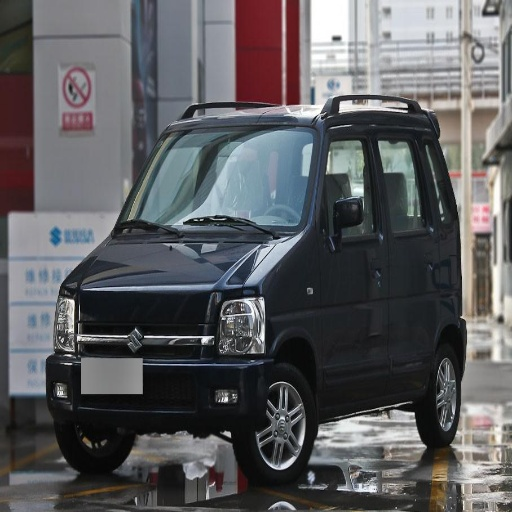back_left_door: (372, 108, 450, 369)
front_bumper: (78, 289, 270, 430)
front_glass: (117, 129, 318, 242)
front_left_door: (325, 112, 390, 383)
